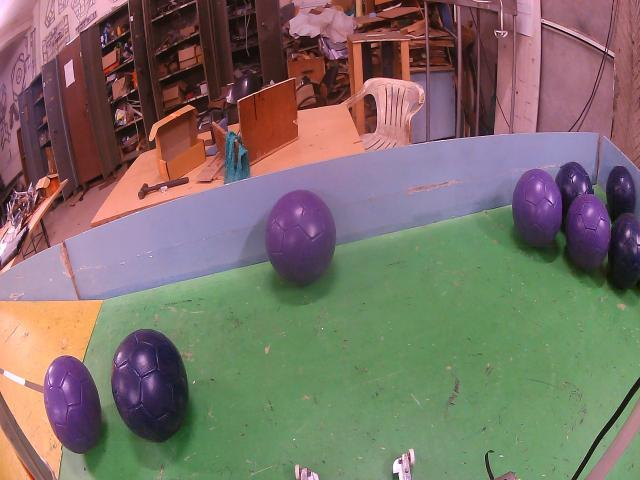jambhalya: (265, 190, 336, 285), (44, 355, 101, 453), (513, 168, 562, 247), (565, 195, 611, 271)
kaalyya: (111, 330, 189, 441), (607, 214, 639, 290), (555, 162, 593, 222), (606, 166, 636, 219)
